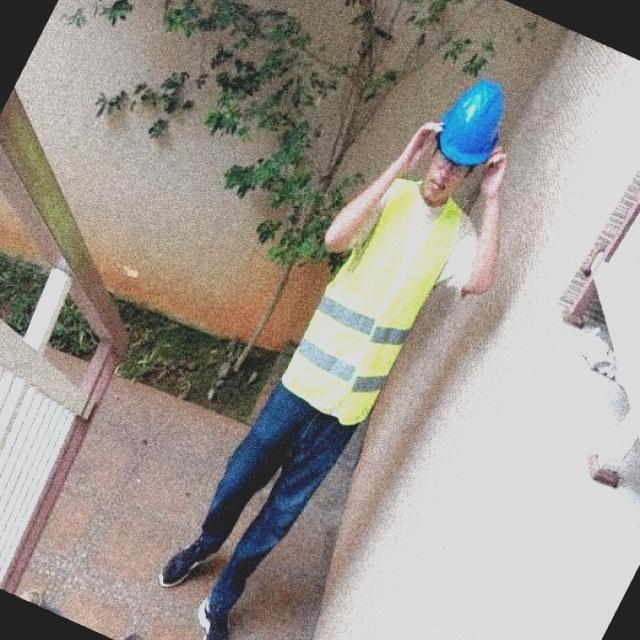helmet: (422, 76, 508, 175)
safety_vest: (258, 176, 472, 430)
